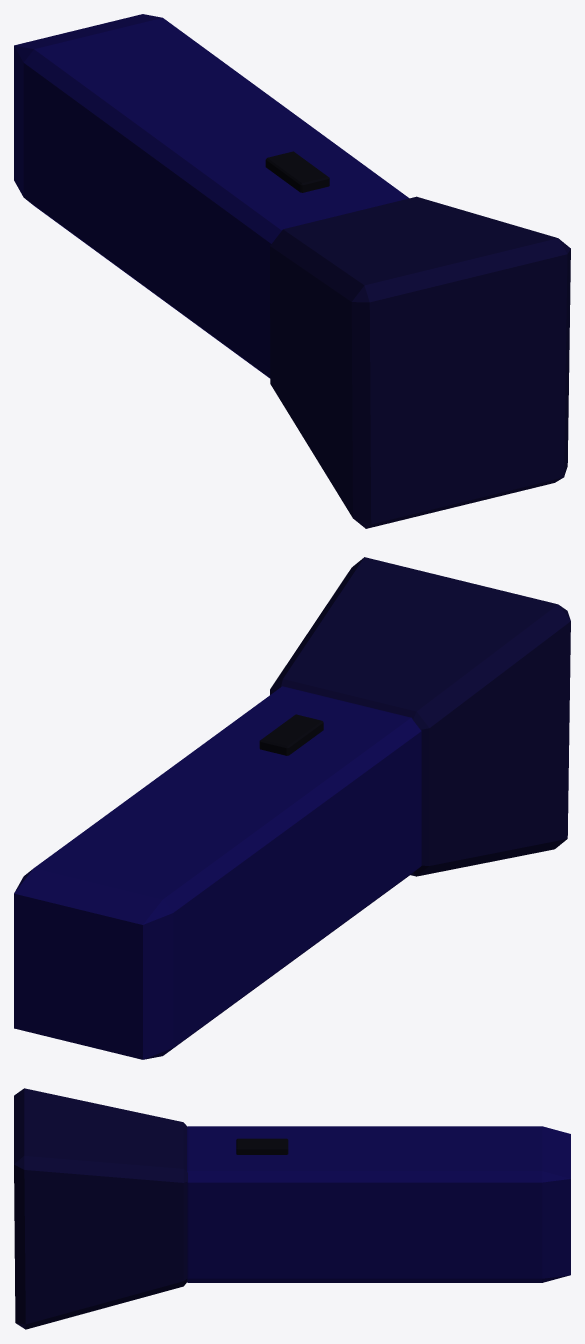
File: flashlight.fbx
3 views of the same model, one above another, from view 1: azimuth 30°, elevation 25°; view 2: azimuth 150°, elevation 25°; view 3: azimuth 270°, elevation 25° (orthographic). The views are drawn at different scales.
Parts seen in each view (by area): view 1: Cube.001; view 2: Cube.001; view 3: Cube.001.
Boxes of the visible parts, x1=… form: Cube.001: x1=14, y1=14, x2=570, y2=528; Cube.001: x1=14, y1=557, x2=570, y2=1059; Cube.001: x1=14, y1=1088, x2=570, y2=1329.
Size of the model in its own units: 31.19 by 33.28 by 96.11.
